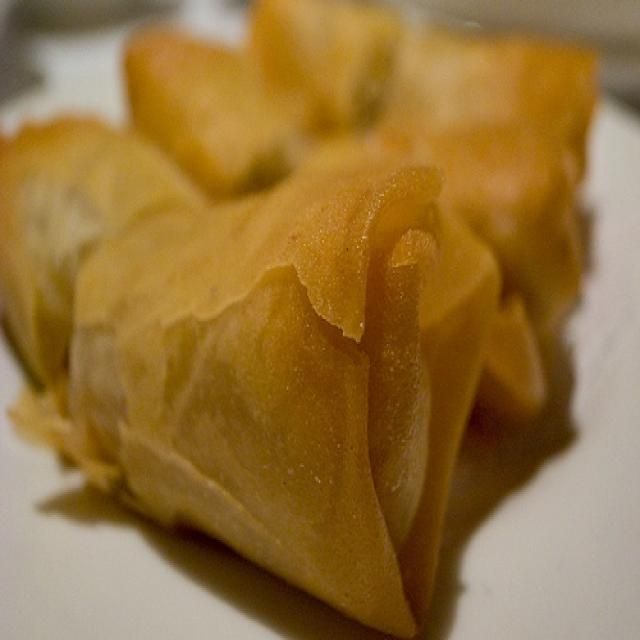炸货点心: (26, 44, 609, 621)
